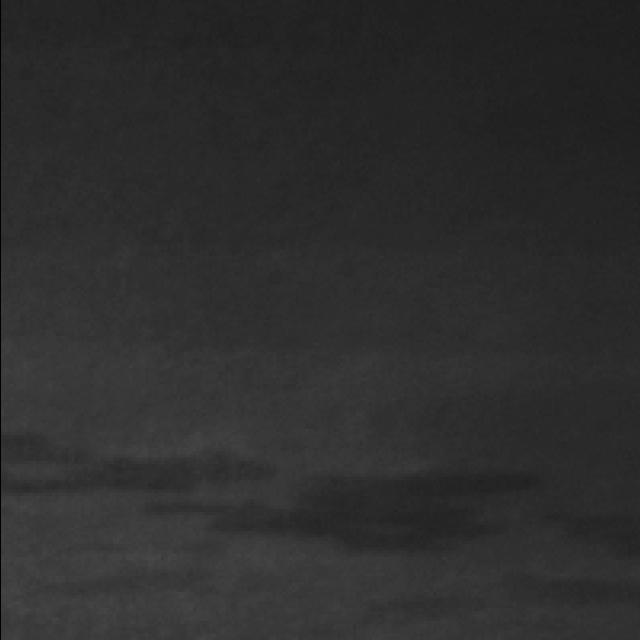inclusion: (159, 458, 539, 564), (0, 432, 174, 521), (480, 560, 640, 618)
